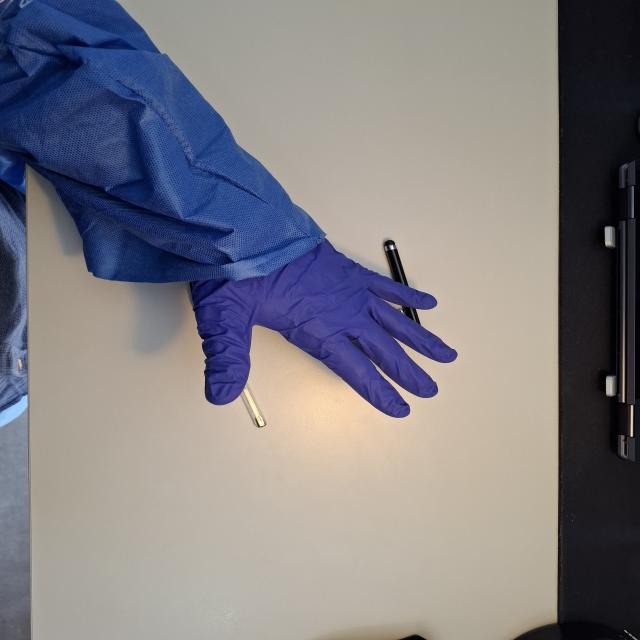glove_on: (185, 225, 460, 420)
